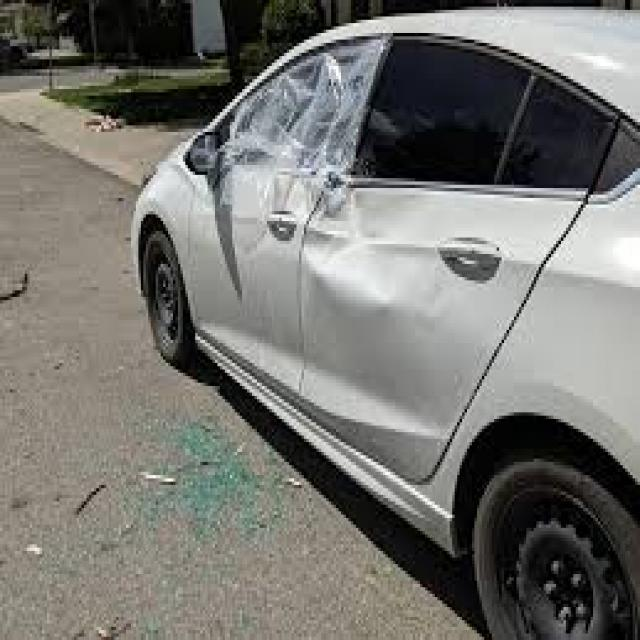damaged-window: (214, 29, 376, 179)
